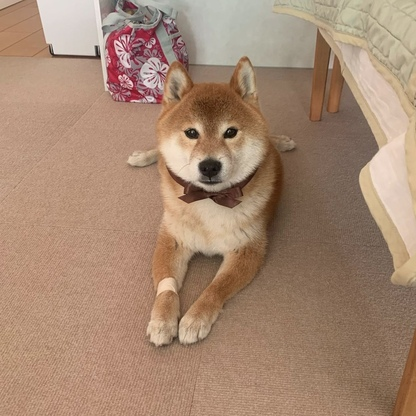shiba: (122, 50, 301, 355)
